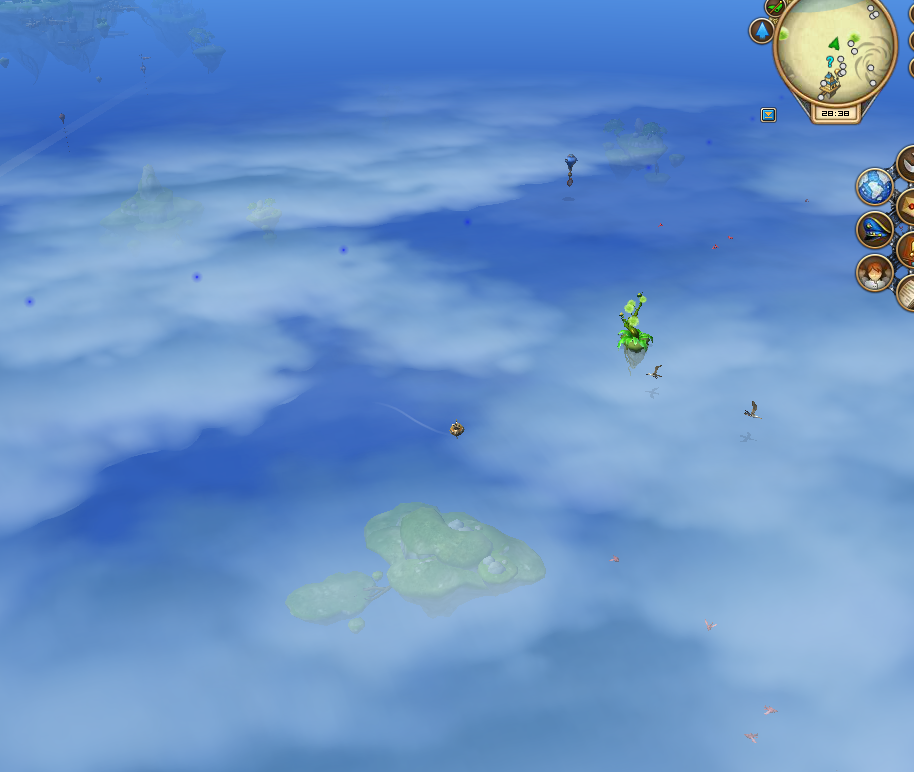dandelion-full: (610, 289, 658, 368)
